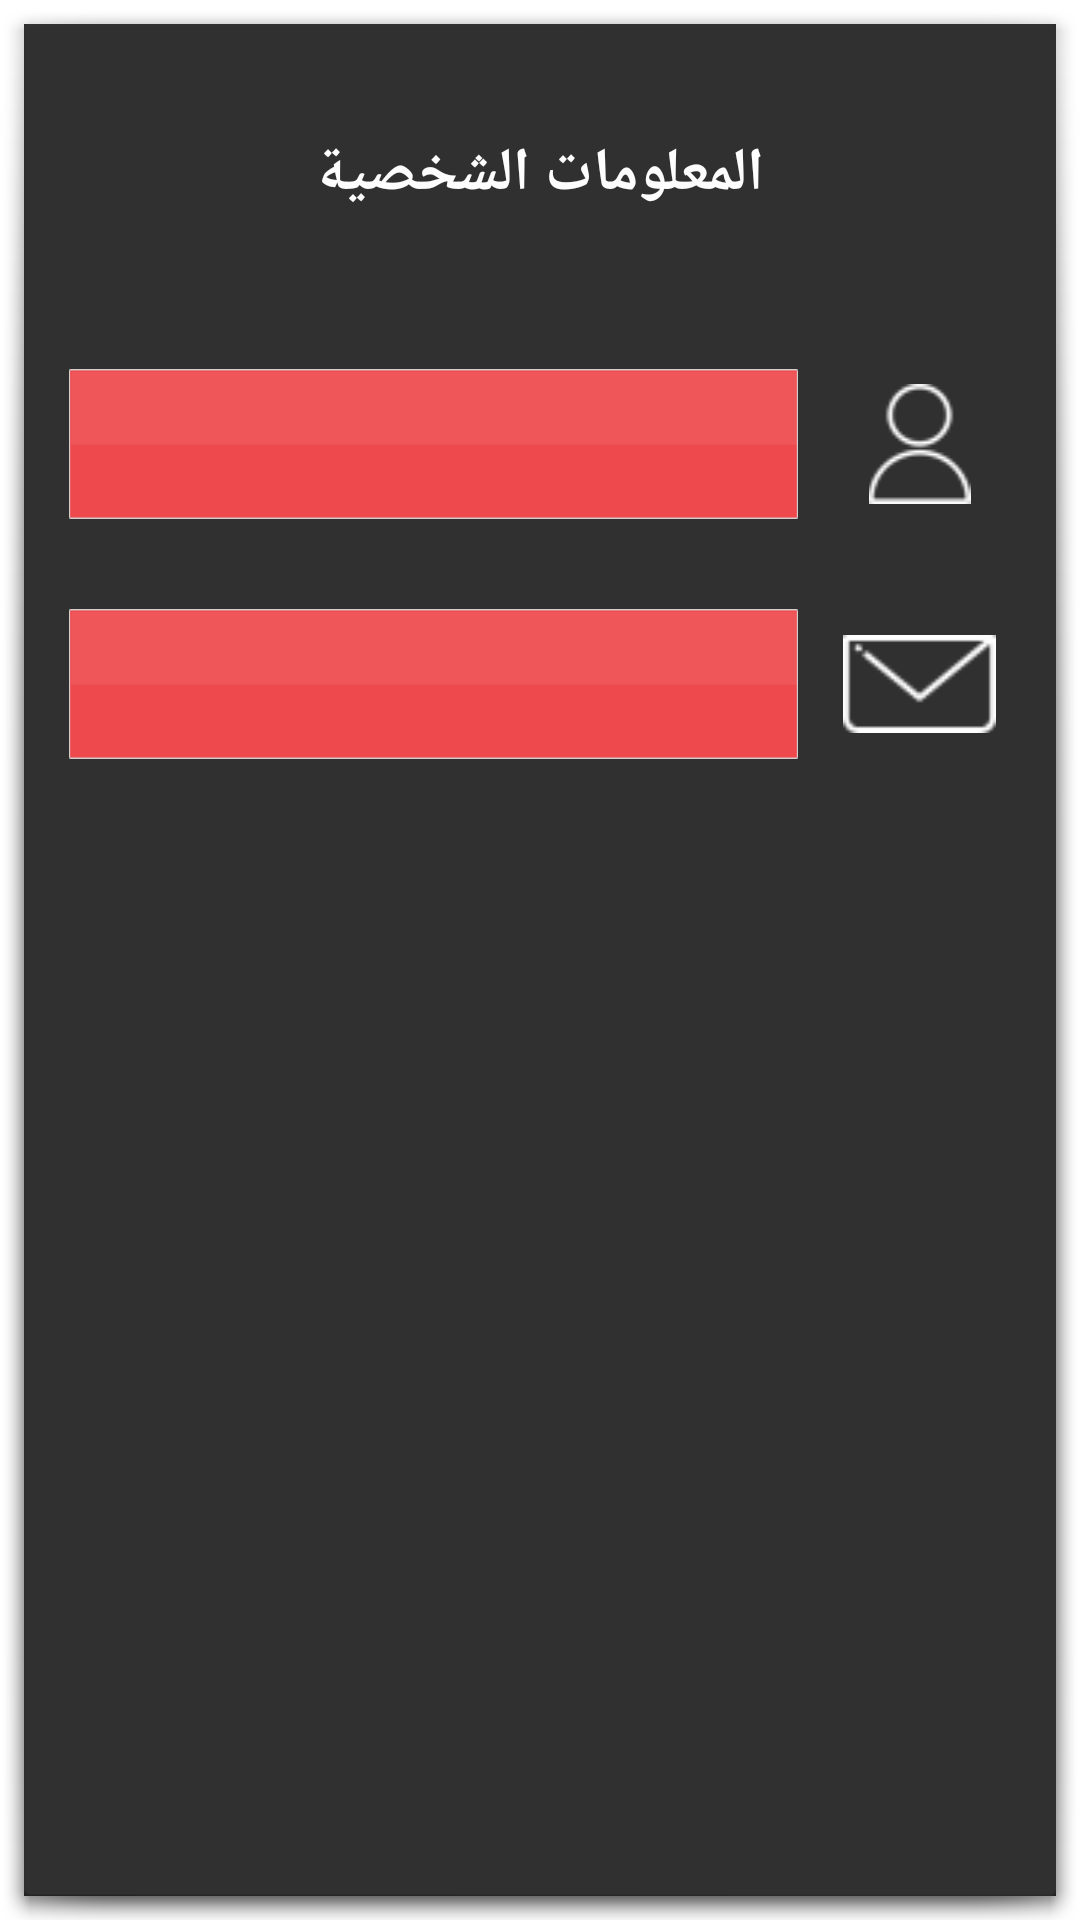

Screen size 1080w x 1920h. Icon name, then its center in pixels as (x,y):
feld email: (915,684)
